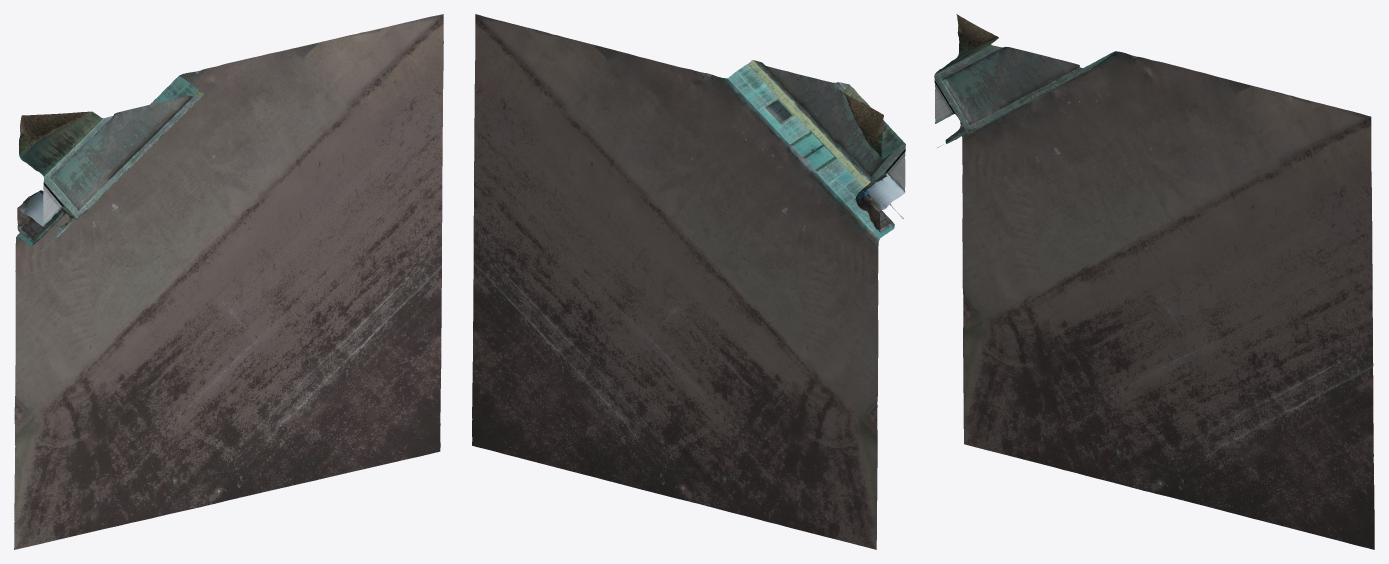
The model's file is Tile_+015_+009.fbx.
The picture shows the model from 3 angles, left to right: view 1: azimuth 30°, elevation 25°; view 2: azimuth 150°, elevation 25°; view 3: azimuth 330°, elevation 25°; orthographic projection. The views are drawn at different scales.
Parts seen in each view (by area): view 1: DefaultName; view 2: DefaultName; view 3: DefaultName.
Boxes of the visible parts, left/top/right/bottom form: DefaultName: left=14, top=14, right=443, bottom=549; DefaultName: left=472, top=14, right=905, bottom=549; DefaultName: left=934, top=14, right=1374, bottom=549.
Size of the model in its own units: 22.54 by 22.54 by 2.97.
